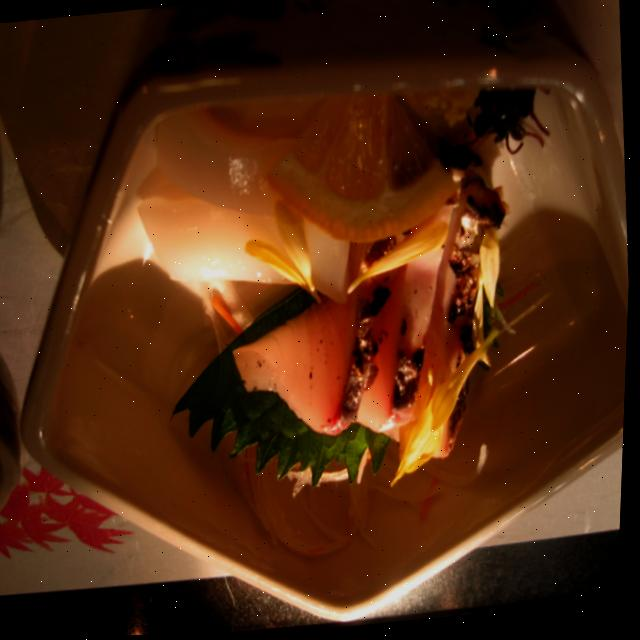刺身生食: (52, 2, 618, 557)
